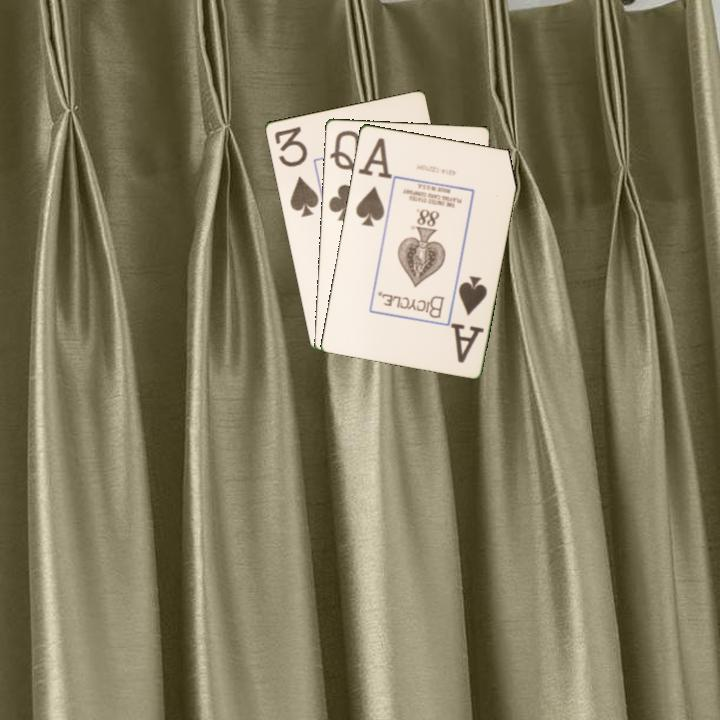3s: (271, 123, 321, 220)
As: (448, 272, 490, 365), (352, 143, 387, 229)
Qc: (325, 126, 364, 224)
